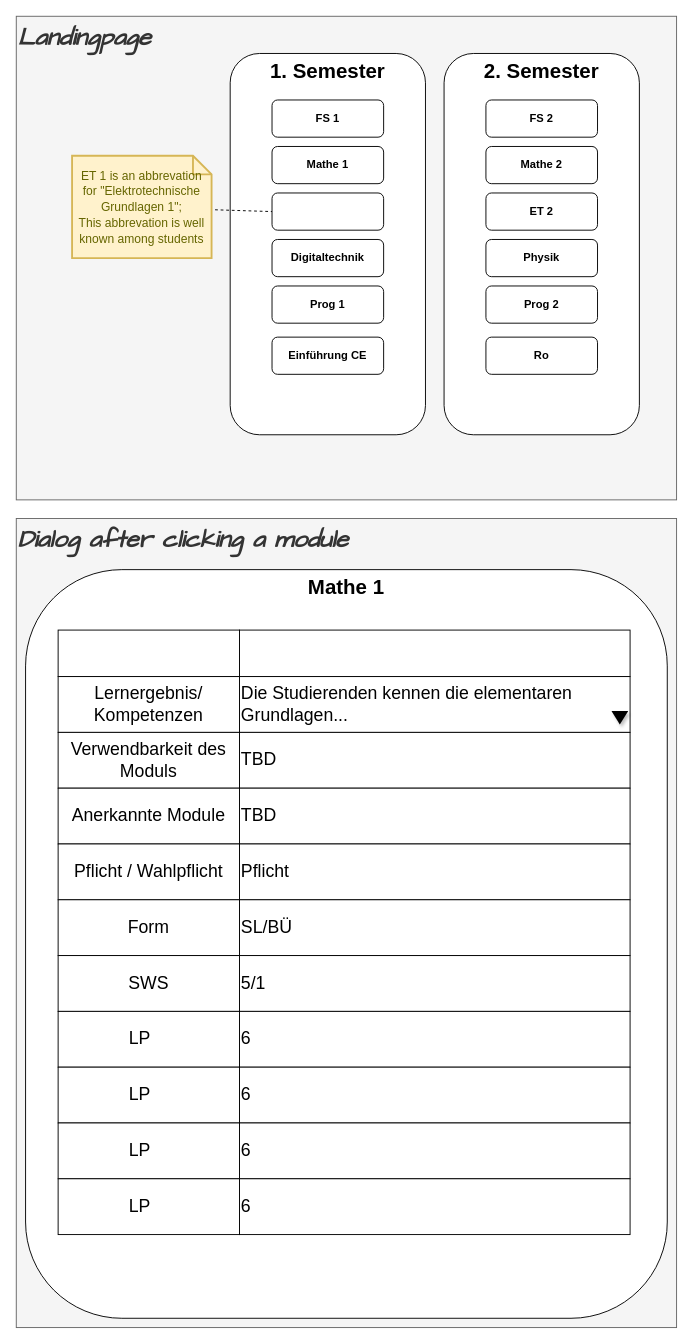
Some shapes in this 693 by 1344 pixel diagram are drawn without their labels. Here are the shapes that lost their labels. From the top down, the centre of each, then its label:
the point at 327,211: ET 1
the point at 148,653: CE 11
the point at 434,653: Mathematik 1
